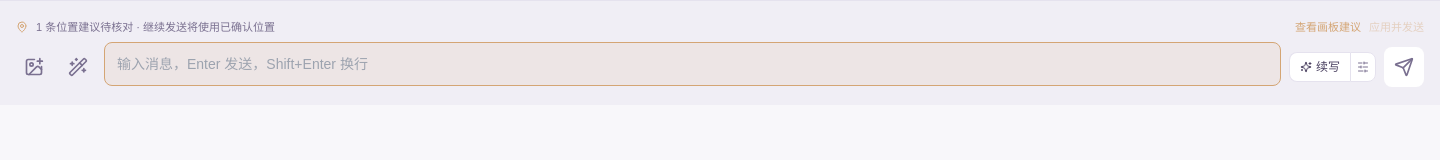
ChatInput › 阶段 3：应用位置后发送 › 位置冲突保留输入稿，不发送主请求
The image size is (1440, 160).
In the text box with placeholder "输入消息，Enter 发送，Shift+Enter 换行": (692, 64) [104,42,1281,86], type "继续"
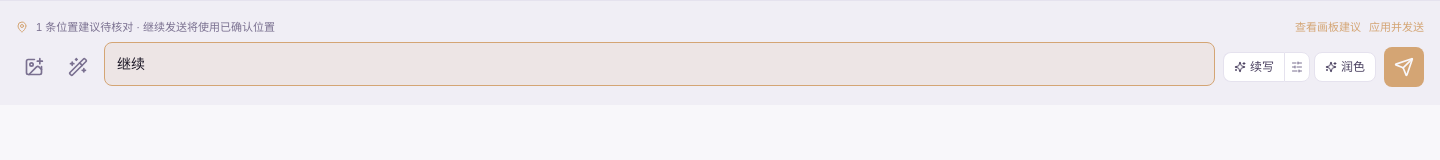
Click the button "应用并发送": (1396, 27) [1369,19,1424,36]
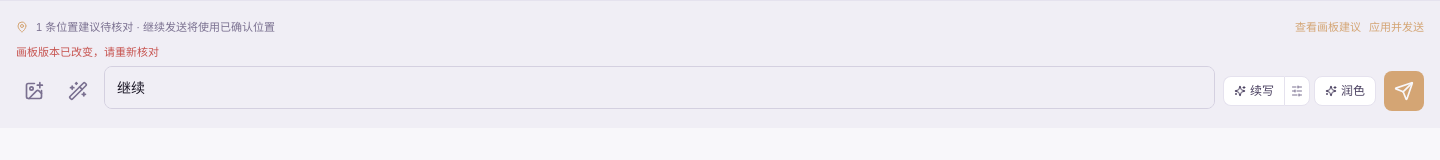
Expected: the message shows "重新核对", [16,46,159,58]
